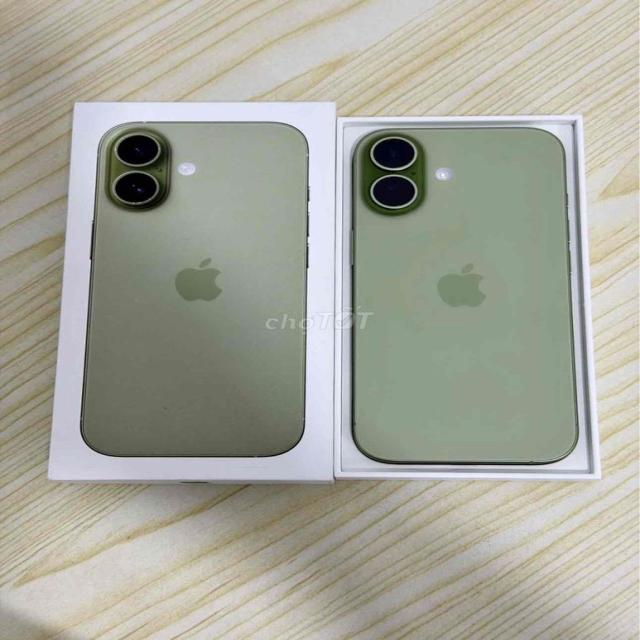gen_17: (351, 128, 576, 464)
